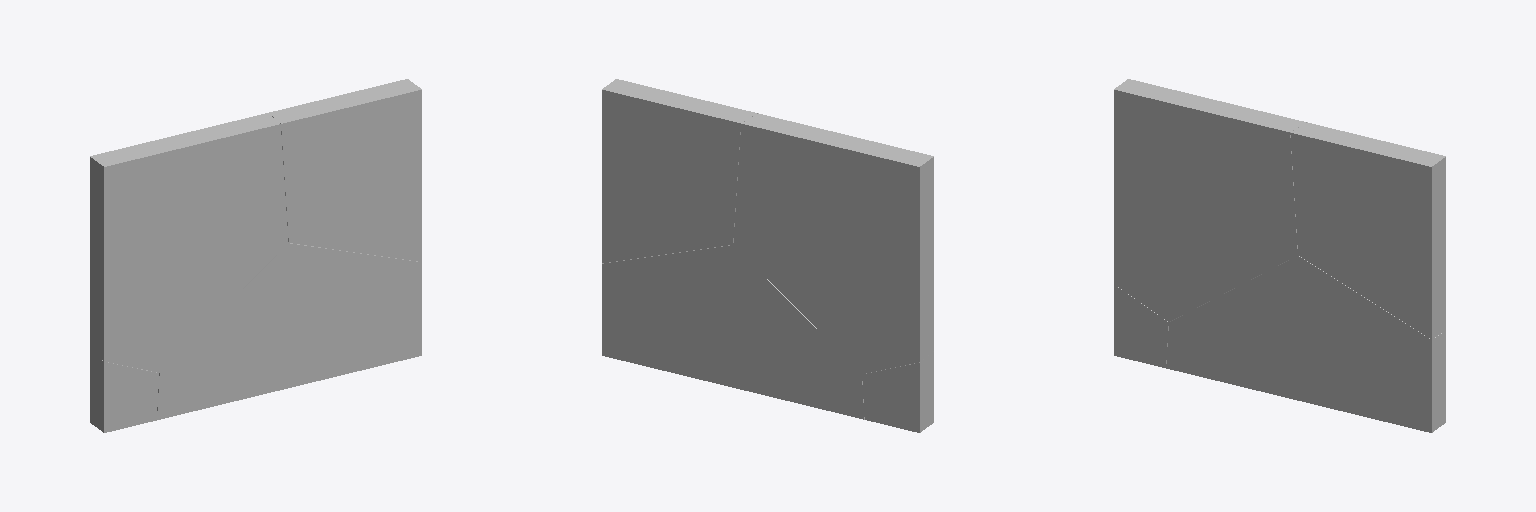
Rendered from BrokenBox.obj.
3 views of the same model, side by side, from view 1: azimuth 30°, elevation 25°; view 2: azimuth 150°, elevation 25°; view 3: azimuth 330°, elevation 25° (orthographic).
Parts seen in each view (by area): view 1: box_cell.002, box_cell.001, box_cell, box_cell.003; view 2: box_cell.002, box_cell.001, box_cell, box_cell.003; view 3: box_cell.002, box_cell.001, box_cell, box_cell.003.
Part boxes in pixels (x1,y1,x2,y2): box_cell.002: (90,113,288,372); box_cell.001: (157,243,421,419); box_cell: (269,79,421,261); box_cell.003: (90,352,158,432); box_cell.002: (733,113,933,373); box_cell.001: (602,245,864,419); box_cell: (602,79,757,262); box_cell.003: (862,351,933,432); box_cell.002: (1114,79,1306,321); box_cell.001: (1166,256,1445,432); box_cell: (1290,122,1445,339); box_cell.003: (1114,285,1168,367).
Bounding box in the file's own units: 2.5 × 2 × 0.2.